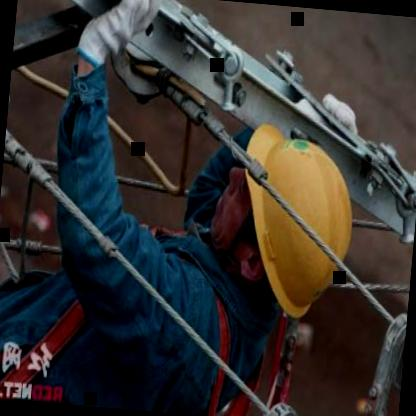helmet: (207, 124, 366, 326)
